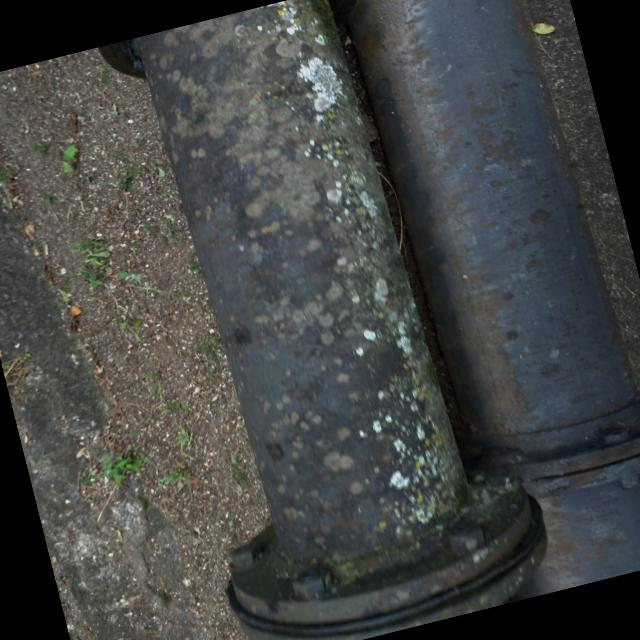gas: (131, 0, 493, 640), (345, 0, 640, 605)
